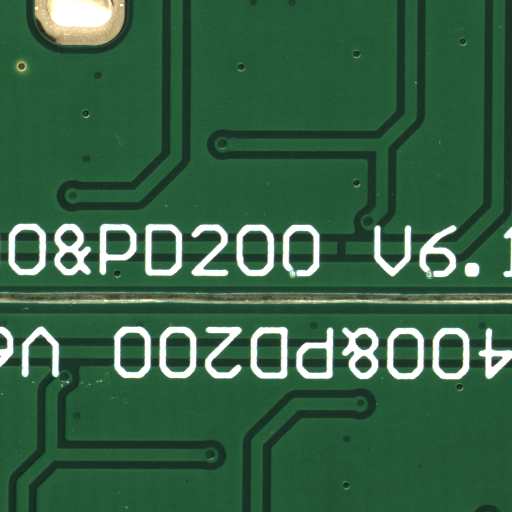Open_circuit: (341, 248, 354, 265)
